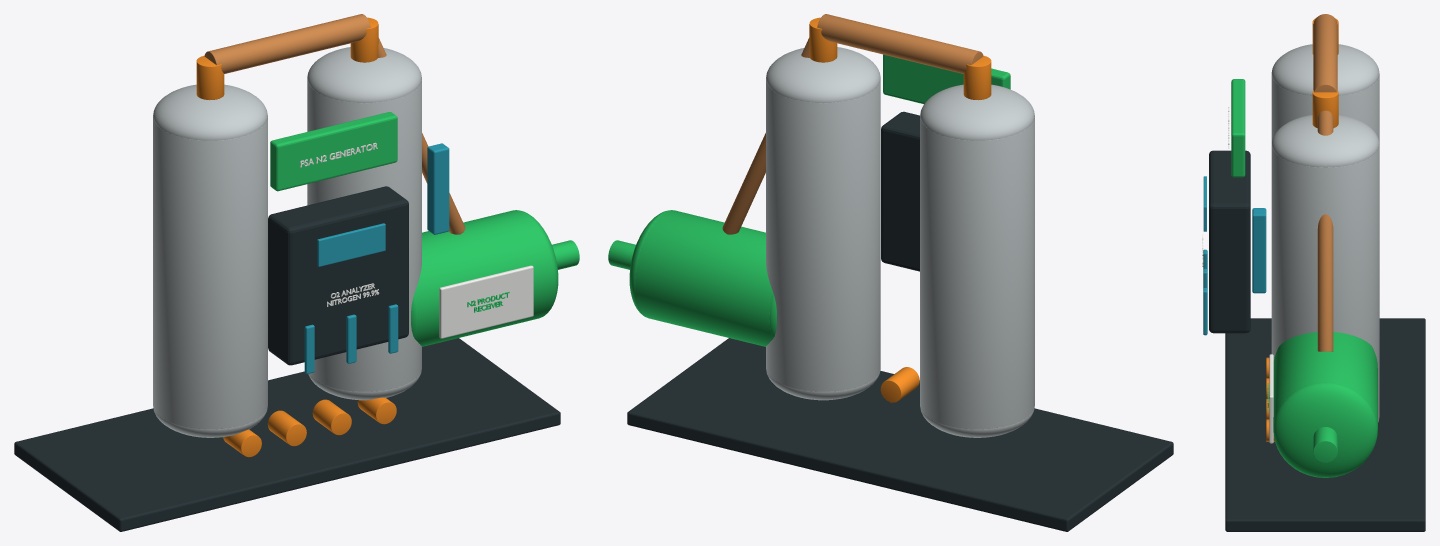
Rendered from psa_nitrogen_generator.glb.
The picture shows the model from 3 angles, left to right: view 1: azimuth 30°, elevation 25°; view 2: azimuth 150°, elevation 25°; view 3: azimuth 270°, elevation 25°; orthographic projection. The views are drawn at different scales.
Visible parts, largest first — view 1: BASE, PSA_TOWER_-0.48, OXYGEN_ANALYZER, PSA_TOWER_0.48, NITROGEN_PRODUCT_RECEIVER, GENERATOR_HEADER_SIGN, PSA_TOP_-0.48, N2_RECEIVER_LABEL, PSA_TOP_0.48, PSA_HEADER, N2_FLOWMETER, PURITY_DISPLAY (+10 smaller); view 2: BASE, PSA_TOWER_-0.48, PSA_TOWER_0.48, NITROGEN_PRODUCT_RECEIVER, OXYGEN_ANALYZER, PSA_TOP_-0.48, PSA_TOP_0.48, PSA_HEADER, GENERATOR_HEADER_SIGN, N2_PRODUCT_LINE, TOP_VALVE_-0.48, PSA_SWITCHING_VALVE_2 (+4 smaller); view 3: BASE, PSA_TOWER_0.48, OXYGEN_ANALYZER, N2_RECEIVER_RIGHT, NITROGEN_PRODUCT_RECEIVER, PSA_TOP_0.48, PSA_TOP_-0.48, PSA_TOWER_-0.48, N2_PRODUCT_LINE, PSA_HEADER, GENERATOR_HEADER_SIGN, N2_FLOWMETER (+3 smaller).
Part boxes in pixels (<box>): BASE: <box>14,338,560,531</box>; PSA_TOWER_-0.48: <box>153,117,267,429</box>; OXYGEN_ANALYZER: <box>268,186,408,365</box>; PSA_TOWER_0.48: <box>307,80,421,391</box>; NITROGEN_PRODUCT_RECEIVER: <box>415,210,552,346</box>; GENERATOR_HEADER_SIGN: <box>270,112,397,191</box>; PSA_TOP_-0.48: <box>153,84,267,140</box>; N2_RECEIVER_LABEL: <box>439,265,533,338</box>; PSA_TOP_0.48: <box>307,47,421,103</box>; PSA_HEADER: <box>204,14,370,73</box>; N2_FLOWMETER: <box>427,143,449,234</box>; PURITY_DISPLAY: <box>317,223,385,266</box>; BASE: <box>627,338,1173,531</box>; PSA_TOWER_-0.48: <box>920,117,1034,429</box>; PSA_TOWER_0.48: <box>766,80,880,391</box>; NITROGEN_PRODUCT_RECEIVER: <box>635,210,772,346</box>; OXYGEN_ANALYZER: <box>881,111,919,271</box>; PSA_TOP_-0.48: <box>920,84,1034,140</box>; PSA_TOP_0.48: <box>766,47,880,103</box>; PSA_HEADER: <box>817,14,983,73</box>; GENERATOR_HEADER_SIGN: <box>883,54,1010,103</box>; N2_PRODUCT_LINE: <box>722,38,809,234</box>; TOP_VALVE_-0.48: <box>963,55,991,100</box>; PSA_SWITCHING_VALVE_2: <box>880,367,919,402</box>; BASE: <box>1225,318,1425,531</box>; PSA_TOWER_0.48: <box>1271,145,1379,420</box>; OXYGEN_ANALYZER: <box>1209,150,1250,333</box>; N2_RECEIVER_RIGHT: <box>1273,382,1377,477</box>; NITROGEN_PRODUCT_RECEIVER: <box>1273,332,1377,428</box>; PSA_TOP_0.48: <box>1271,115,1379,167</box>; PSA_TOP_-0.48: <box>1271,44,1379,96</box>; PSA_TOWER_-0.48: <box>1271,75,1379,143</box>; N2_PRODUCT_LINE: <box>1317,110,1333,351</box>; PSA_HEADER: <box>1313,14,1337,92</box>; GENERATOR_HEADER_SIGN: <box>1231,79,1245,177</box>; N2_FLOWMETER: <box>1252,208,1266,293</box>.
Size of the model in its own units: 3.15 by 2.42 by 1.28.
